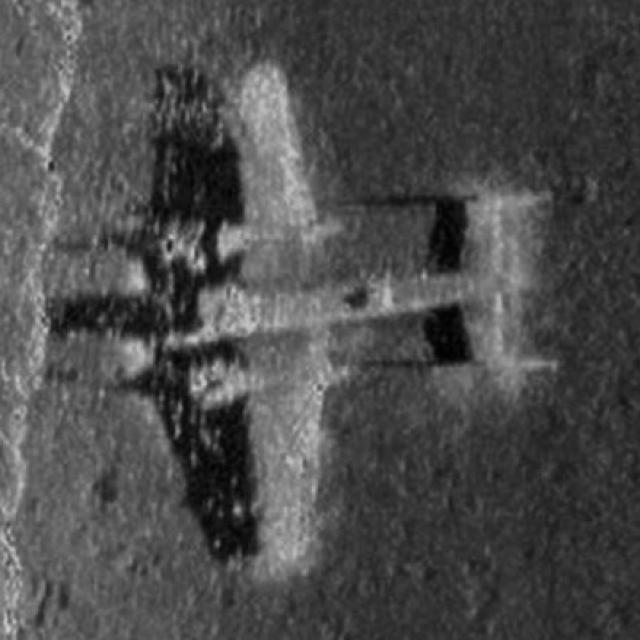plane: (121, 58, 541, 558)
